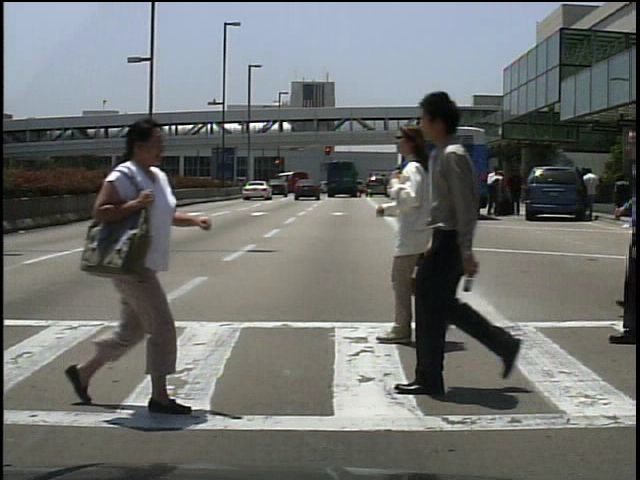person: (392, 84, 545, 402), (72, 121, 207, 418), (362, 117, 481, 356), (485, 162, 503, 214), (508, 166, 526, 216), (585, 168, 602, 218)
